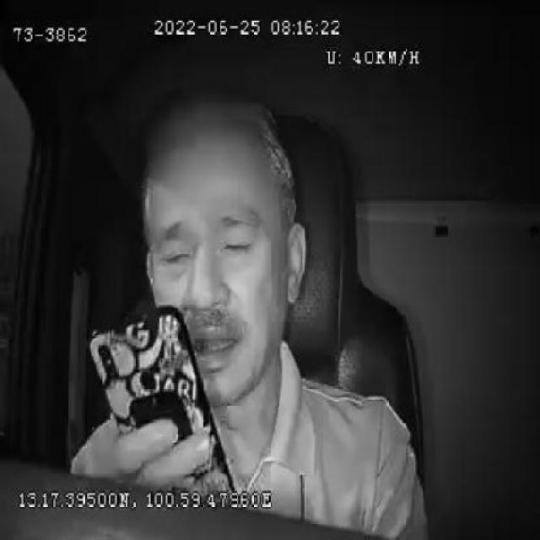phone: (90, 304, 237, 492)
